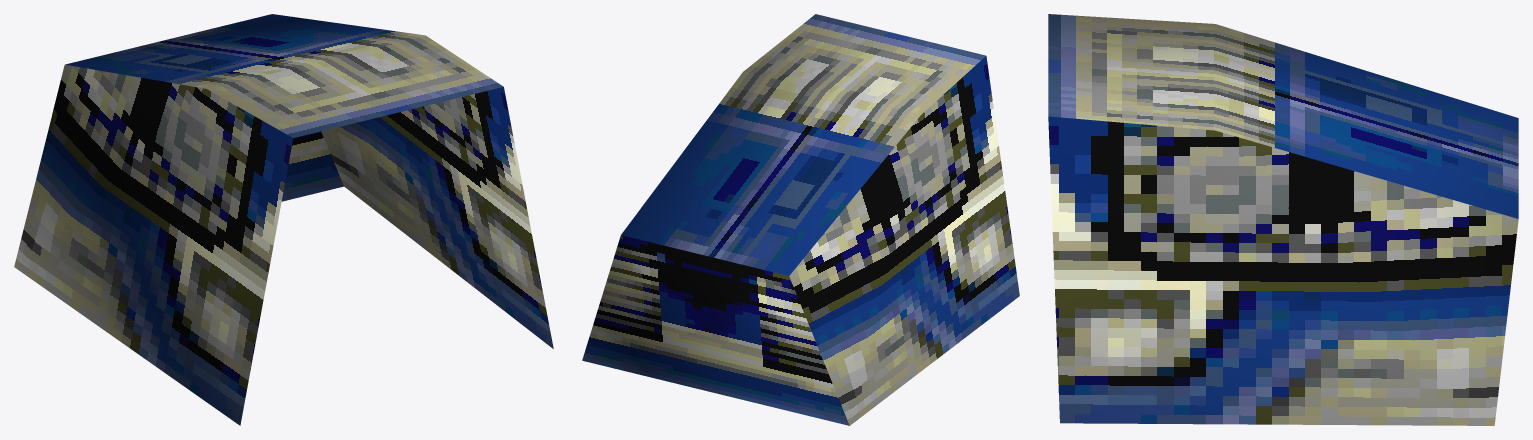
File: DrillTruckY_Anim.glb
The picture shows the model from 3 angles, left to right: view 1: azimuth 30°, elevation 25°; view 2: azimuth 150°, elevation 25°; view 3: azimuth 270°, elevation 25°; orthographic projection. The views are drawn at different scales.
Parts seen in each view (by area): view 1: DrillTruckY_Anim_part00; view 2: DrillTruckY_Anim_part00; view 3: DrillTruckY_Anim_part00.
Boxes of the visible parts, x1,y1,x2,y2 form: DrillTruckY_Anim_part00: [14, 14, 553, 425]; DrillTruckY_Anim_part00: [582, 14, 1019, 425]; DrillTruckY_Anim_part00: [1048, 14, 1518, 425].
Bounding box in the file's own units: 7.52 × 6.11 × 9.32.
Materials: 3 (3 with a texture image).
